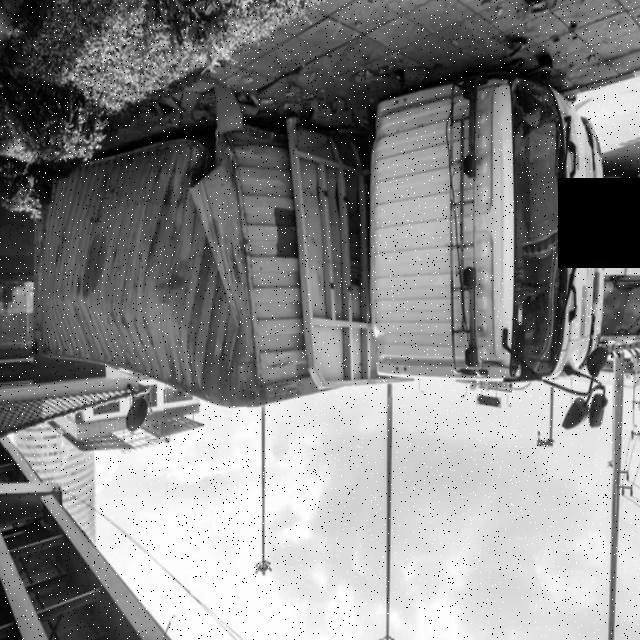severe: (24, 64, 612, 418)
